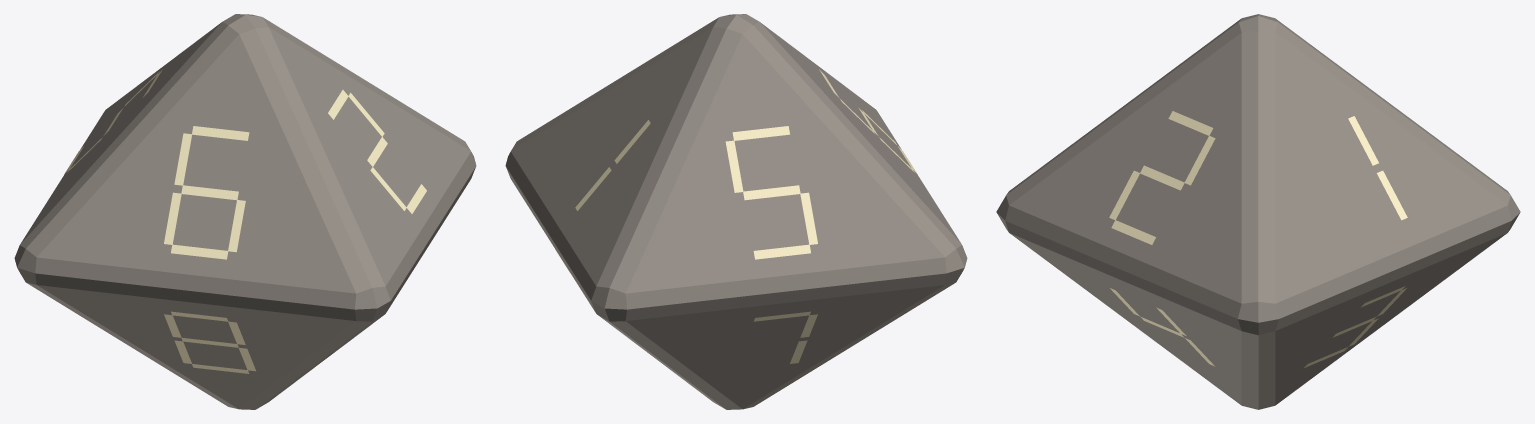
The picture shows the model from 3 angles, left to right: view 1: azimuth 30°, elevation 25°; view 2: azimuth 150°, elevation 25°; view 3: azimuth 270°, elevation 25°; orthographic projection.
Visible parts, largest first — view 1: RenderMesh, GlyphMesh; view 2: RenderMesh, GlyphMesh; view 3: RenderMesh, GlyphMesh.
Boxes of the visible parts, <box> form: RenderMesh: <box>14,14,476,409</box>; GlyphMesh: <box>64,69,426,373</box>; RenderMesh: <box>505,14,967,409</box>; GlyphMesh: <box>555,69,917,363</box>; RenderMesh: <box>996,14,1520,409</box>; GlyphMesh: <box>1109,111,1407,367</box>.
Size of what is drawn, in the model's own units: 0.032 by 0.0264 by 0.032.
